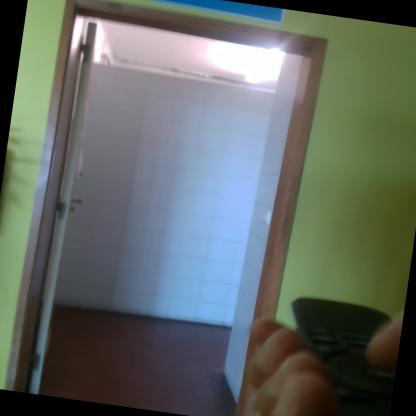open: (0, 0, 342, 412)
